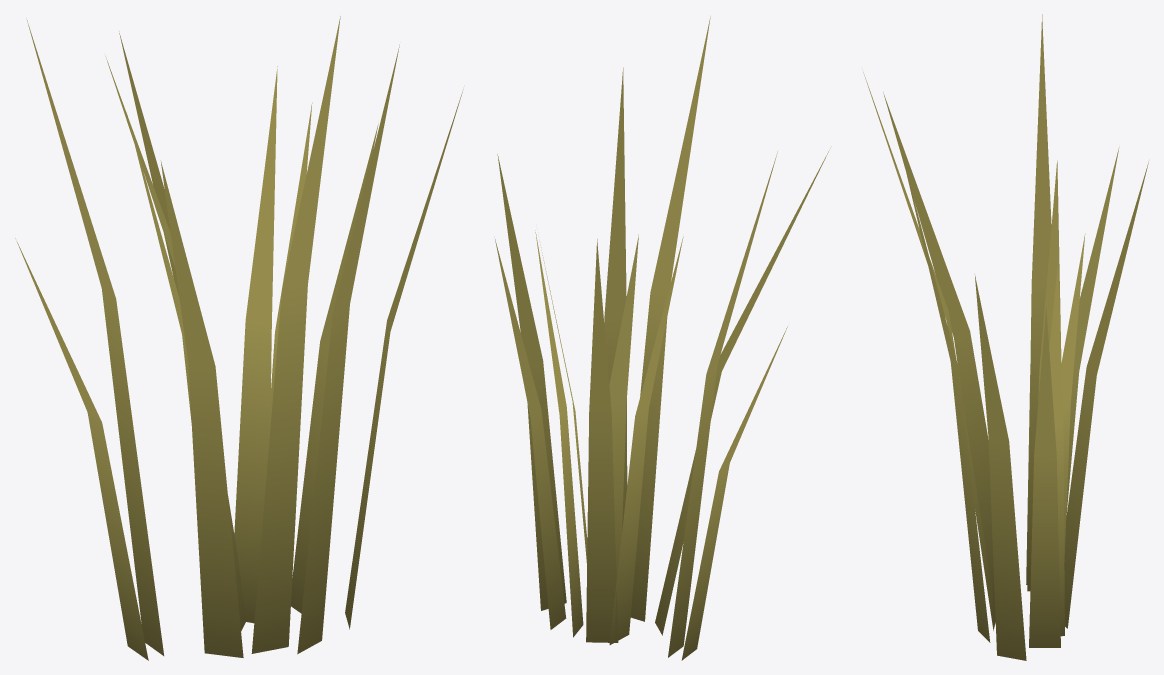
The model's file is grass_tuft_dry.glb.
3 renders of one model, left to right at view 1: azimuth 30°, elevation 25°; view 2: azimuth 150°, elevation 25°; view 3: azimuth 270°, elevation 25°, orthographic. The views are drawn at different scales.
Parts seen in each view (by area): view 1: grass_tuft_dry; view 2: grass_tuft_dry; view 3: grass_tuft_dry.
Part boxes in pixels (<box>): grass_tuft_dry: <box>15,16,463,660</box>; grass_tuft_dry: <box>495,16,831,660</box>; grass_tuft_dry: <box>863,14,1148,660</box>.
Bounding box in the file's own units: 0.4194 × 0.687 × 0.3243.
